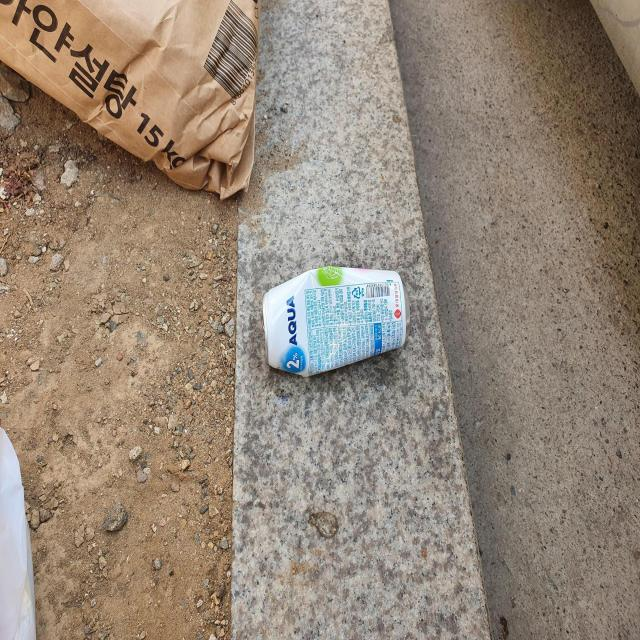can: (262, 265, 411, 378)
